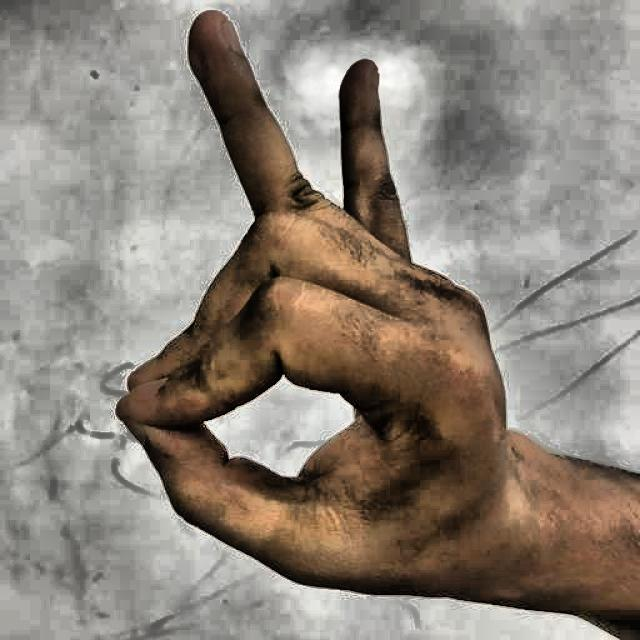Na: (72, 5, 530, 610)
